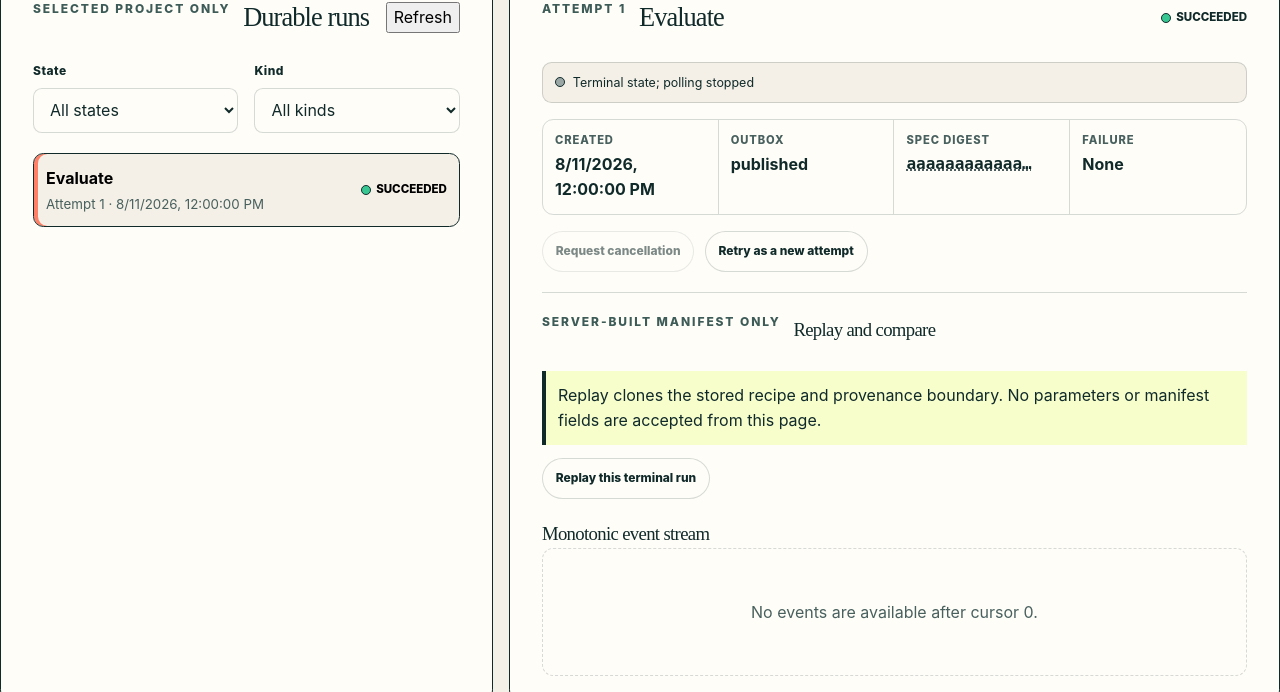
Job Center durable replay › submits a succeeded run once and displays the completed source comparison
(page scrolled)
Click the button "Replay this terminal run".
click(626, 479)  # box x1=542 y1=458 x2=710 y2=499
(page scrolled)
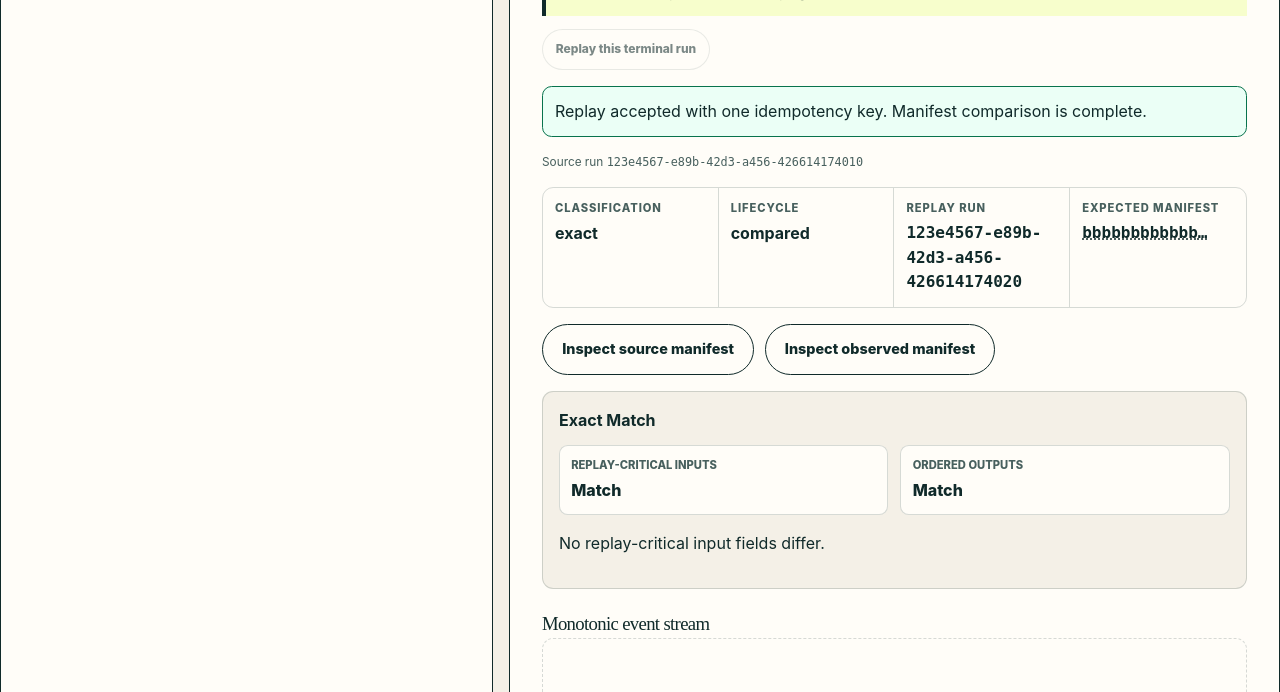
Expected: the text "123e4567-e89b-42d3-a456-426614174010" is shown, x1=607 y1=155 x2=863 y2=169
Expected: the text "Replay-critical inputs" is shown, x1=571 y1=458 x2=717 y2=472
Expected: the text "Match" is shown 2 times, x1=571 y1=480 x2=621 y2=500; x1=913 y1=480 x2=963 y2=500
